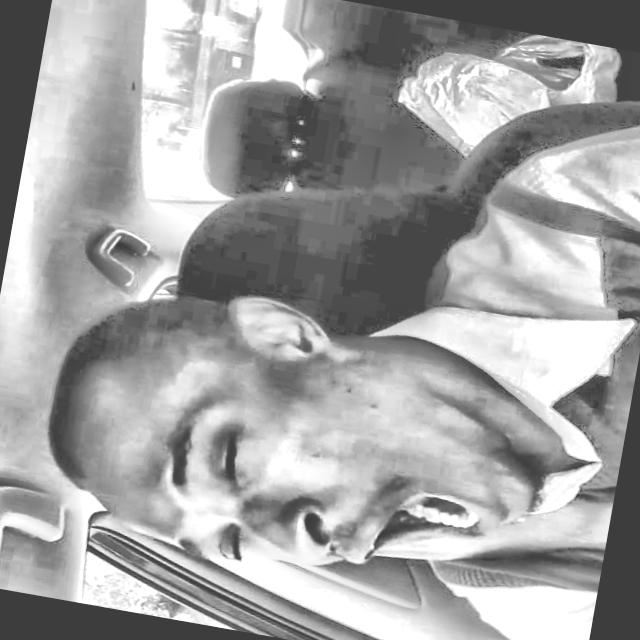closed_eyes: (200, 415, 269, 497), (203, 516, 259, 572)
open_mouth: (346, 480, 522, 576)
